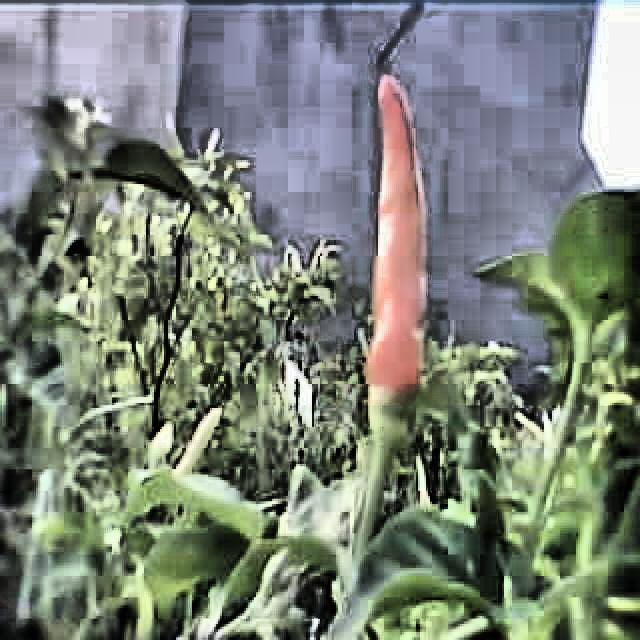Cabai: (352, 68, 450, 394)
